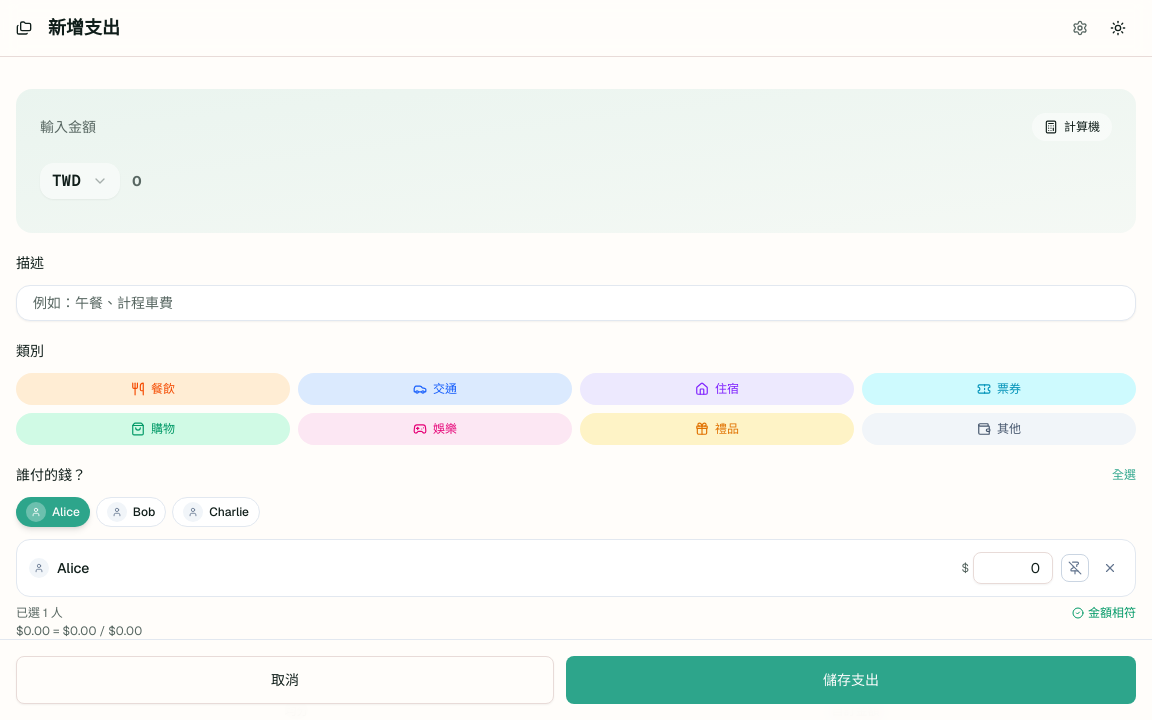
Test: ExpenseForm Component › Personal Items + Equal Split Mode › should display feedback panel with personal total and remaining amount
// Enter amount
Type "2000" into the number field with placeholder "0" at (622, 181), box x1=132 y1=153 x2=1112 y2=209
(page scrolled)
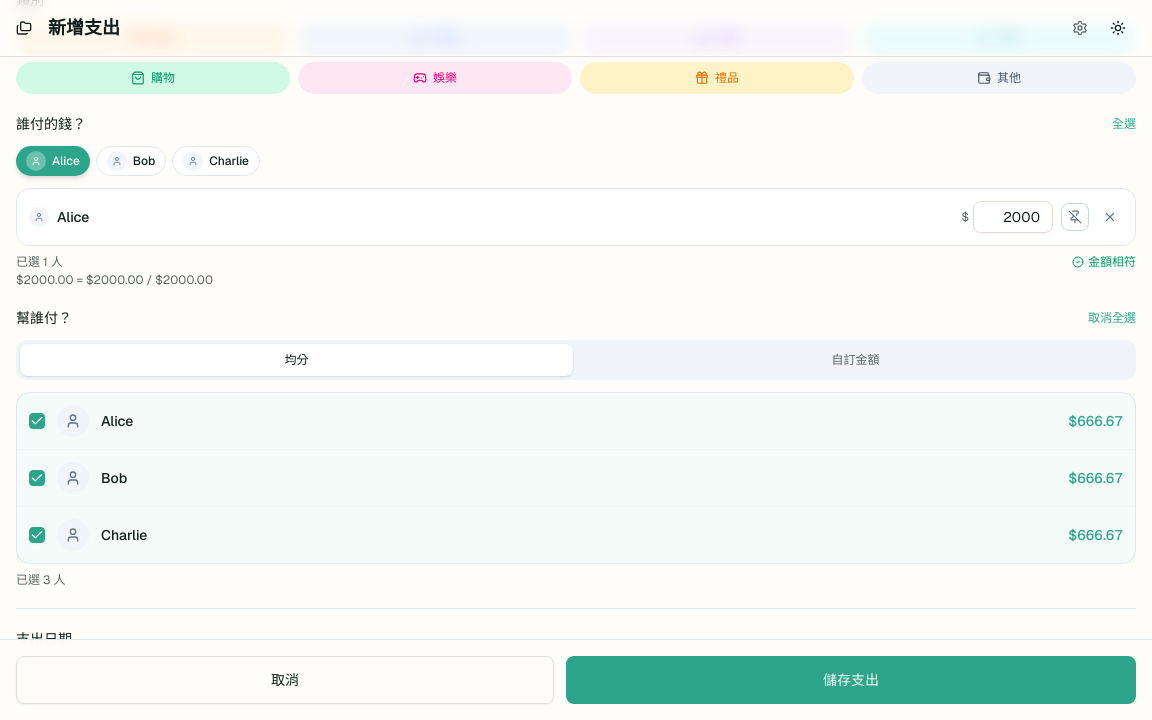
// Switch to custom split
Click the button "自訂金額" at (856, 360), box x1=579 y1=344 x2=1132 y2=376
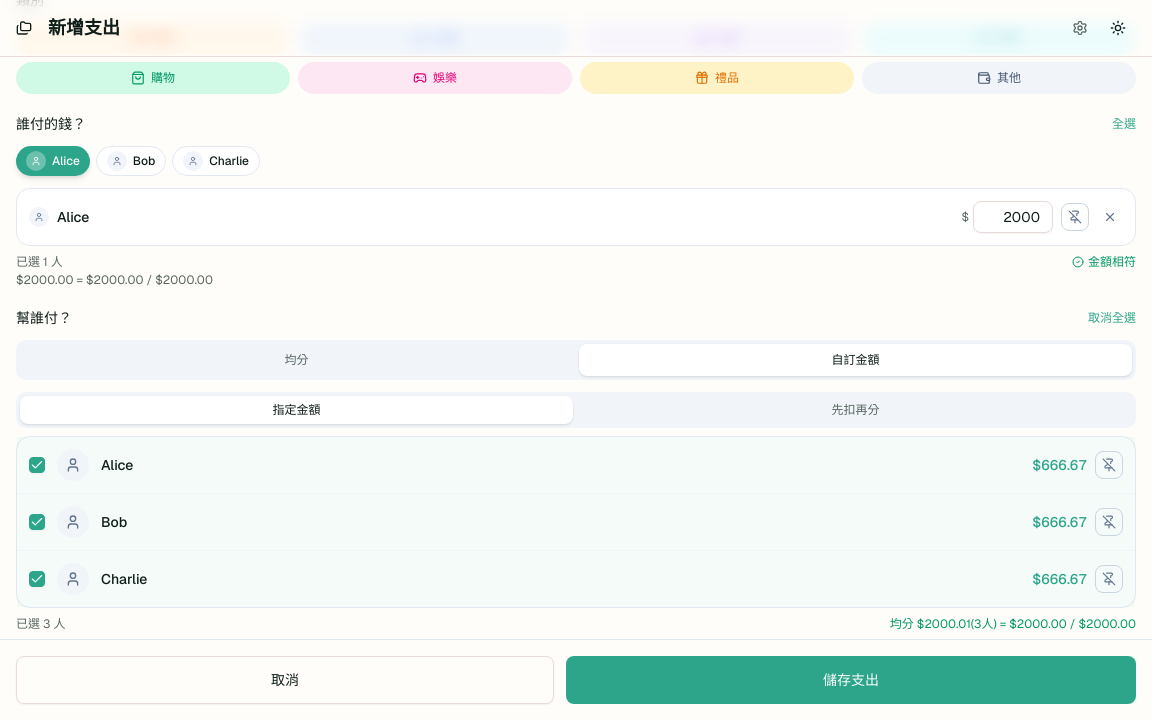
// Switch to personal mode
Click the button "先扣再分" at (856, 410), box x1=579 y1=396 x2=1132 y2=424
(page scrolled)
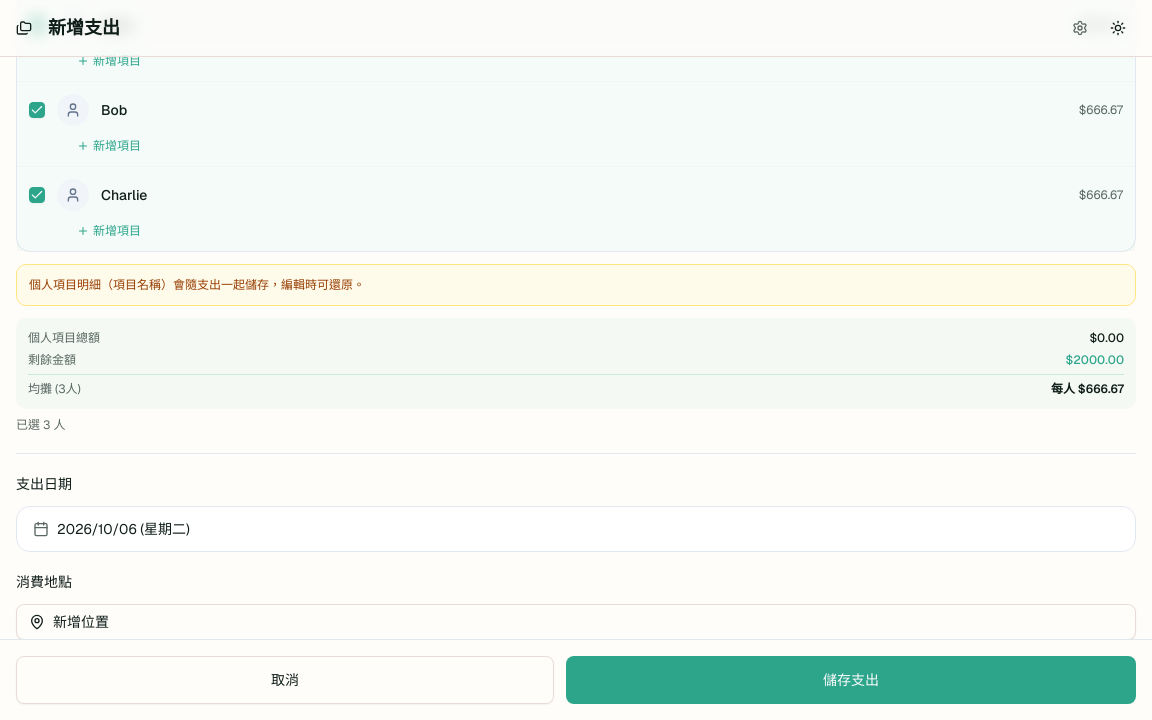
Check: the text "個人項目總額" is shown, box x1=28 y1=330 x2=100 y2=346
Check: the text "剩餘金額" is shown, box x1=28 y1=352 x2=76 y2=368
